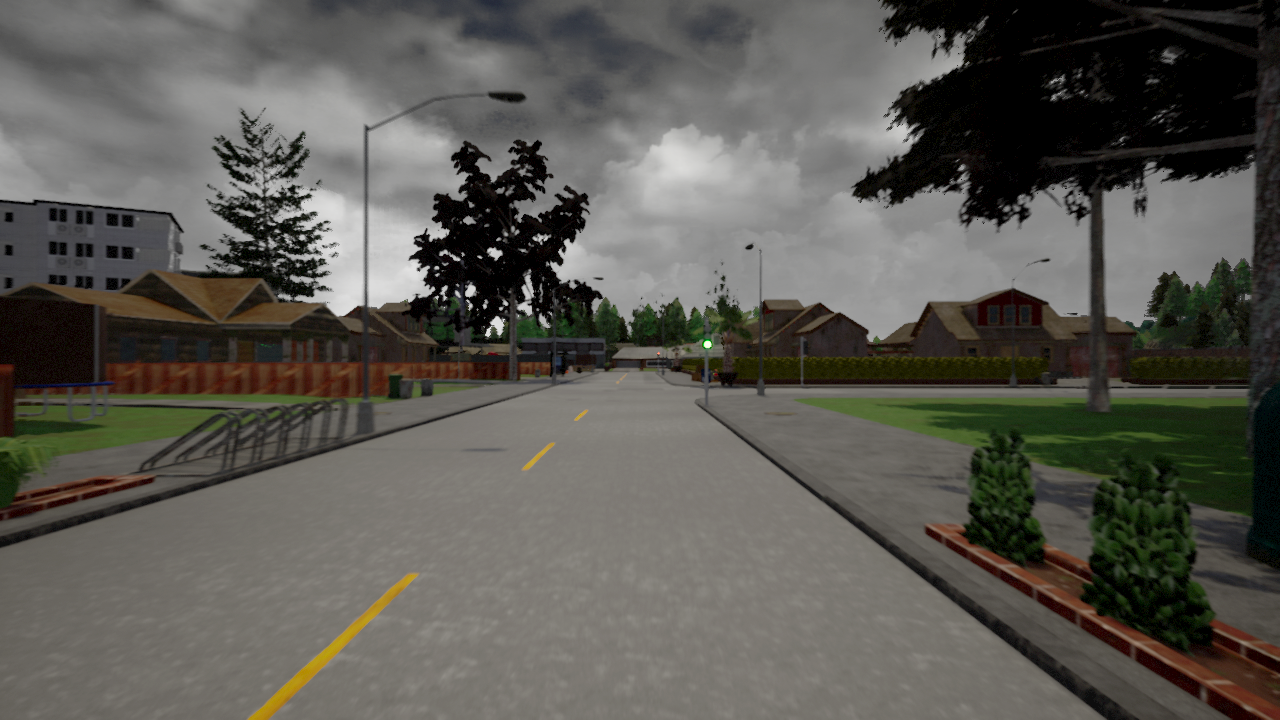green: (702, 324, 713, 349)
